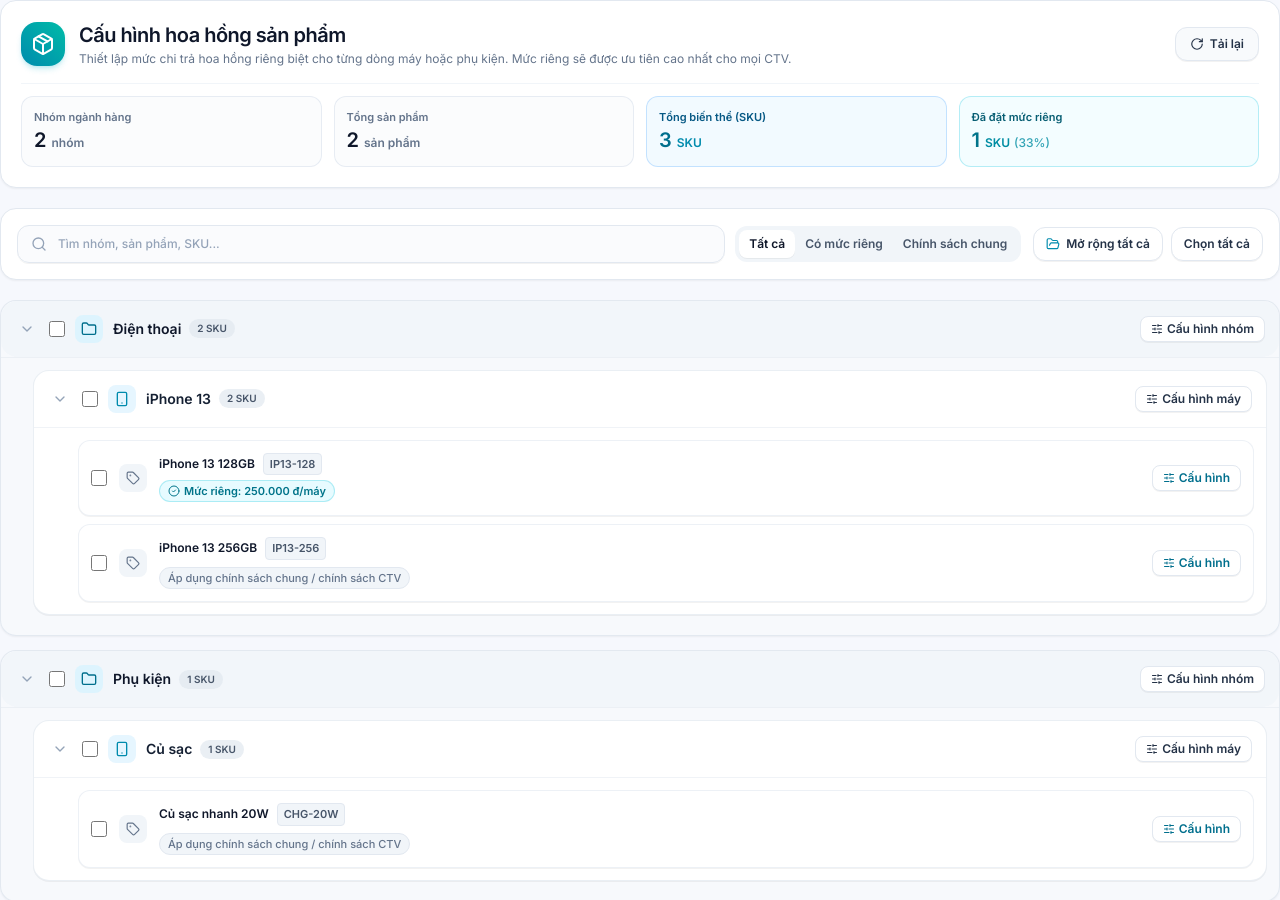
Test case: filters by status: Có mức riêng vs Chính sách chung
Expected: the text "iPhone 13 128GB" is shown, [159,456,255,472]
Expected: the text "Củ sạc nhanh 20W" is shown, [159,806,269,822]
Click the button "Có mức riêng".
click(844, 244)  # box [795,230,893,258]
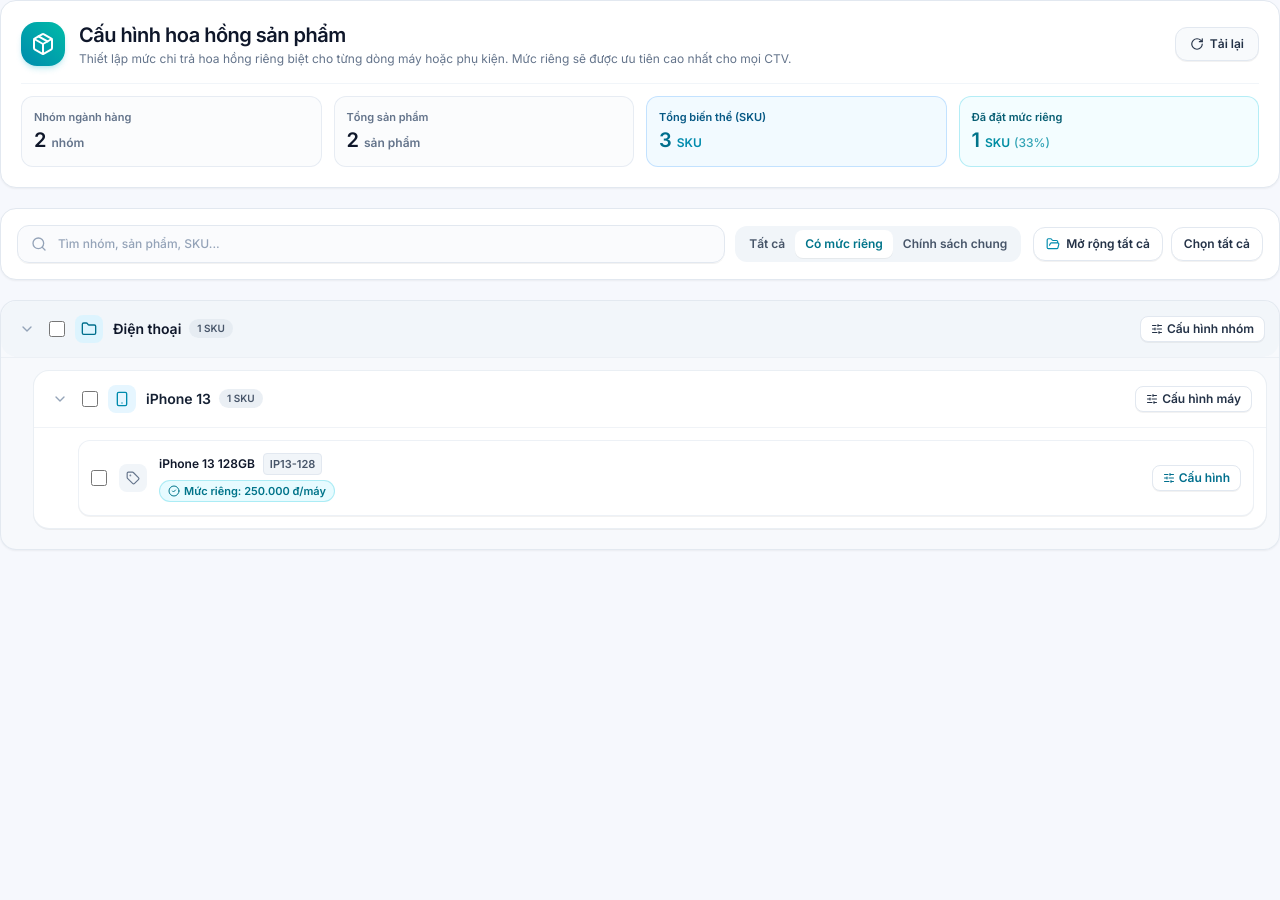
Expected: the text "iPhone 13 128GB" is shown, [159,456,255,472]
Result: the text "Củ sạc nhanh 20W" is gone
Click the button "Chính sách chung".
click(955, 244)  # box [893,230,1017,258]
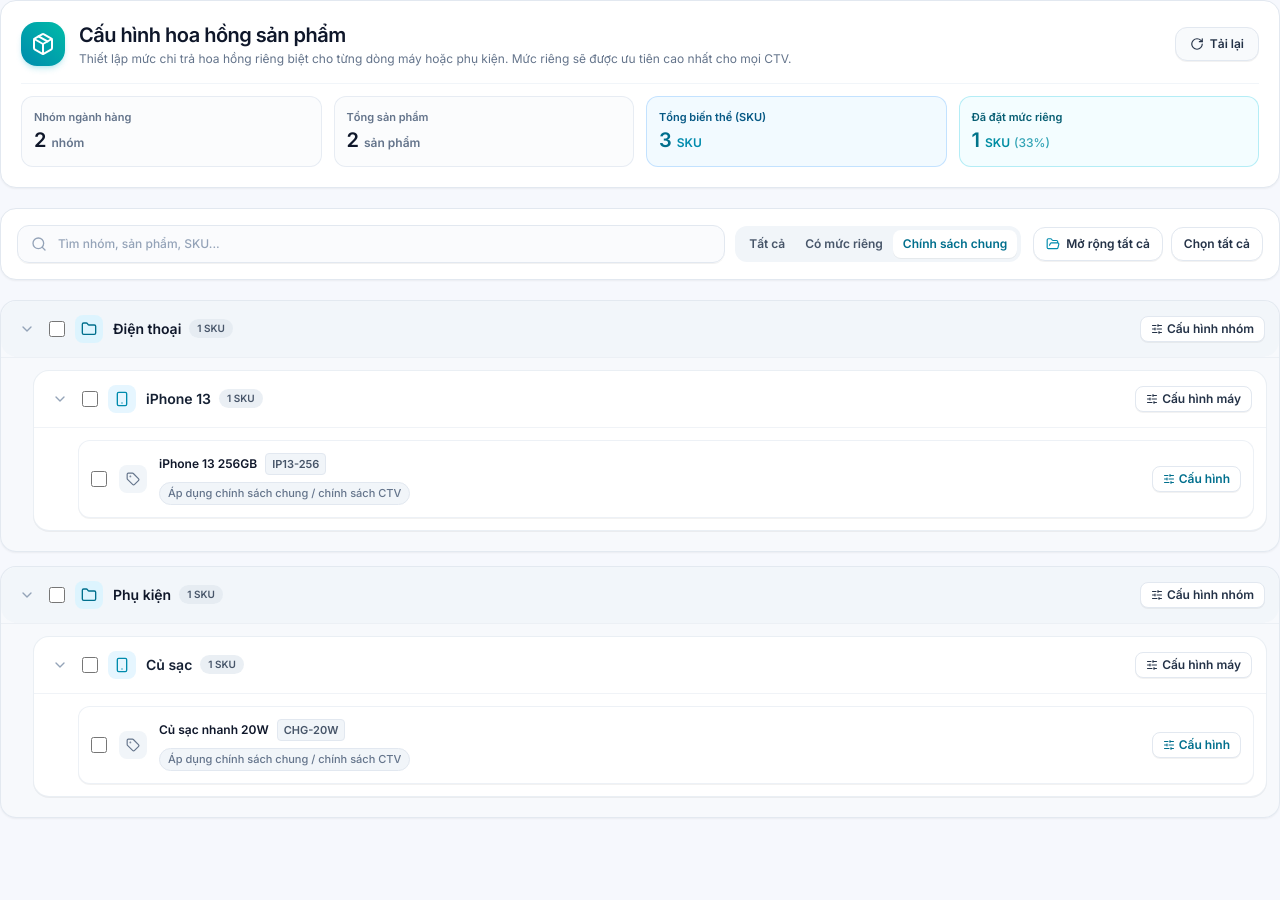
Result: the text "iPhone 13 128GB" is gone
Result: the text "Củ sạc nhanh 20W" is shown at [159,722,269,738]
